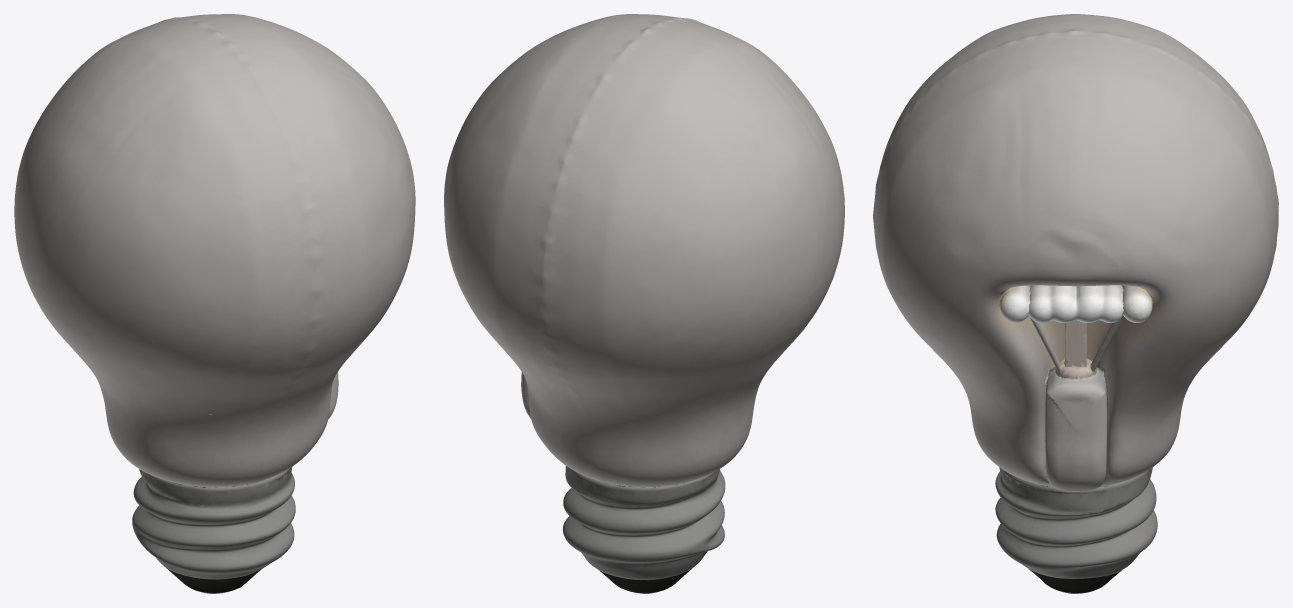
Rendered from bulb.glb.
3 views of the same model, side by side, from view 1: azimuth 30°, elevation 25°; view 2: azimuth 150°, elevation 25°; view 3: azimuth 270°, elevation 25° (orthographic).
Visible parts, largest first — view 1: tripo_node_ad16a274-5451-4b8f-a14c-6b3dba99d954; view 2: tripo_node_ad16a274-5451-4b8f-a14c-6b3dba99d954; view 3: tripo_node_ad16a274-5451-4b8f-a14c-6b3dba99d954.
Part boxes in pixels (x1,y1,x2,y2): tripo_node_ad16a274-5451-4b8f-a14c-6b3dba99d954: [14, 14, 415, 593]; tripo_node_ad16a274-5451-4b8f-a14c-6b3dba99d954: [444, 14, 844, 593]; tripo_node_ad16a274-5451-4b8f-a14c-6b3dba99d954: [873, 14, 1278, 593].
Bounding box in the file's own units: 0.6341 × 0.9818 × 0.6459.
Materials: 1 (1 with a texture image).
